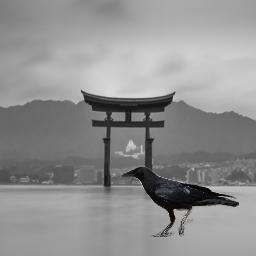Crow: (120, 165, 239, 237)
